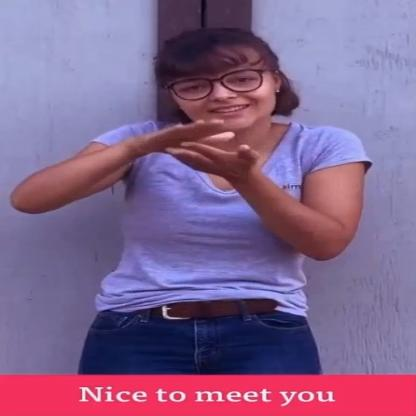NiceToMeetYou: (14, 29, 360, 377)
